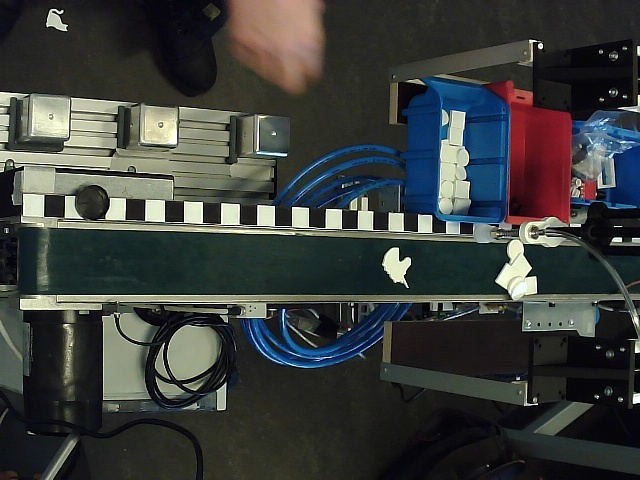unicorn: (381, 246, 411, 289)
